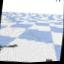drone: (55, 0, 60, 3)
